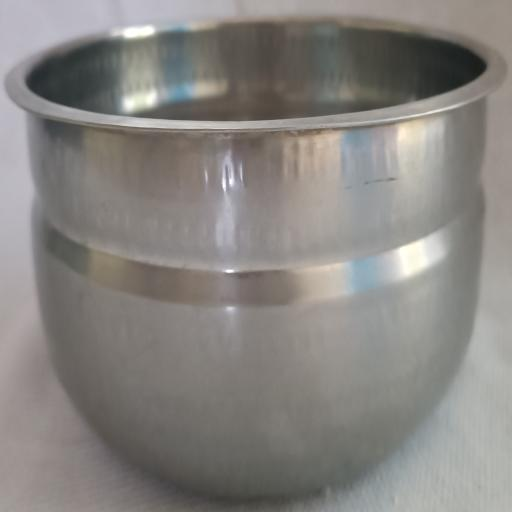vessel: (7, 18, 505, 494)
